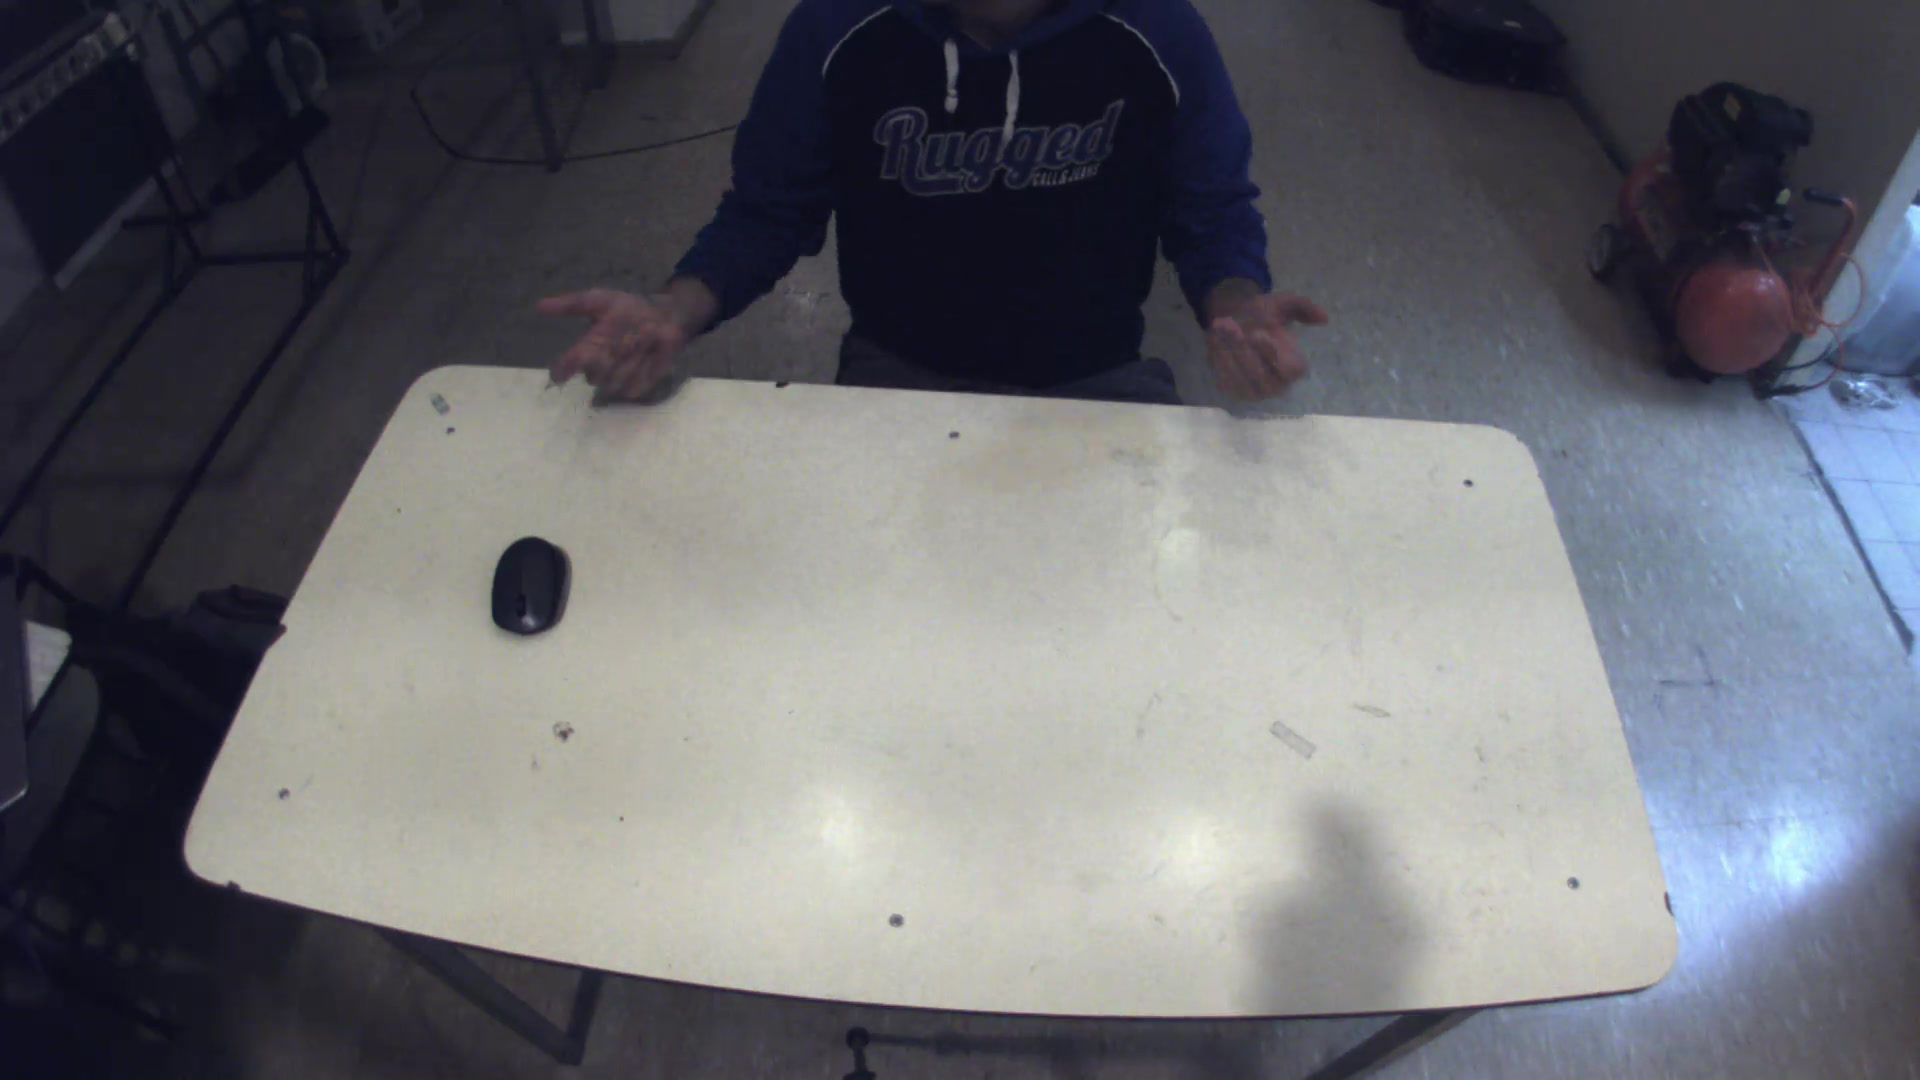hand: (524, 269, 702, 410), (1193, 269, 1342, 407)
